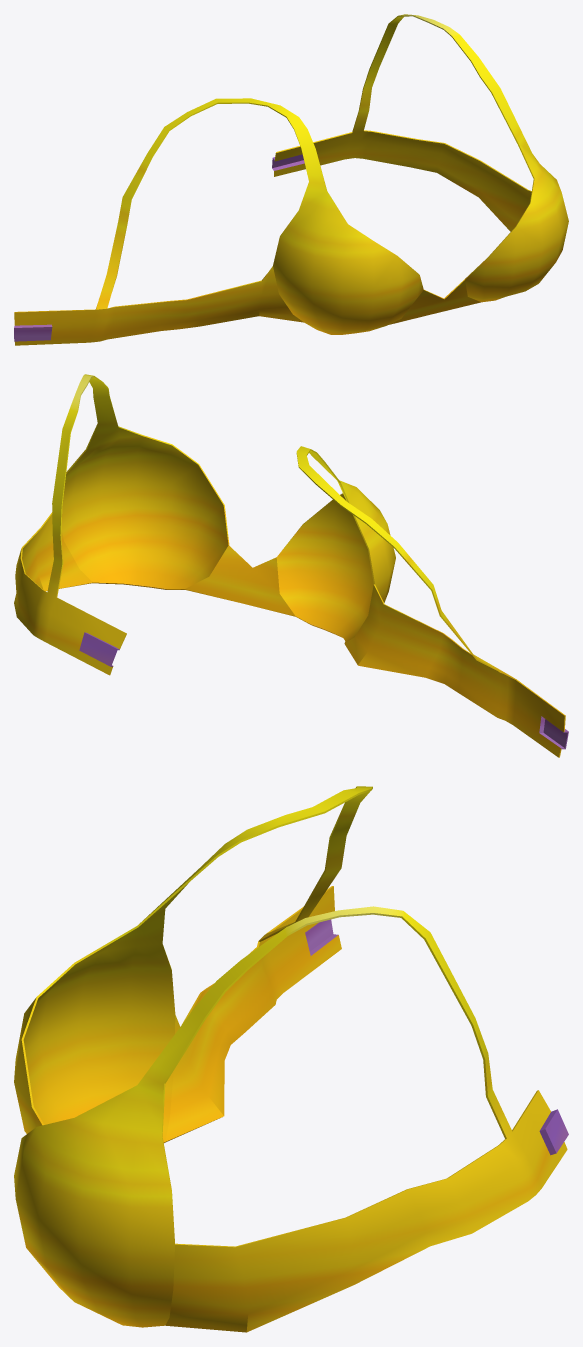
File: bra.glb
3 views of the same model, one above another, from view 1: azimuth 30°, elevation 25°; view 2: azimuth 150°, elevation 25°; view 3: azimuth 270°, elevation 25° (orthographic). The views are drawn at different scales.
Parts seen in each view (by area): view 1: bra; view 2: bra; view 3: bra.
Part boxes in pixels (<box>): bra: <box>14,14,568,345</box>; bra: <box>14,374,568,757</box>; bra: <box>14,786,568,1332</box>.
Bounding box in the file's own units: 1.4 × 0.6214 × 0.8023.
1 material, 1 textured.
